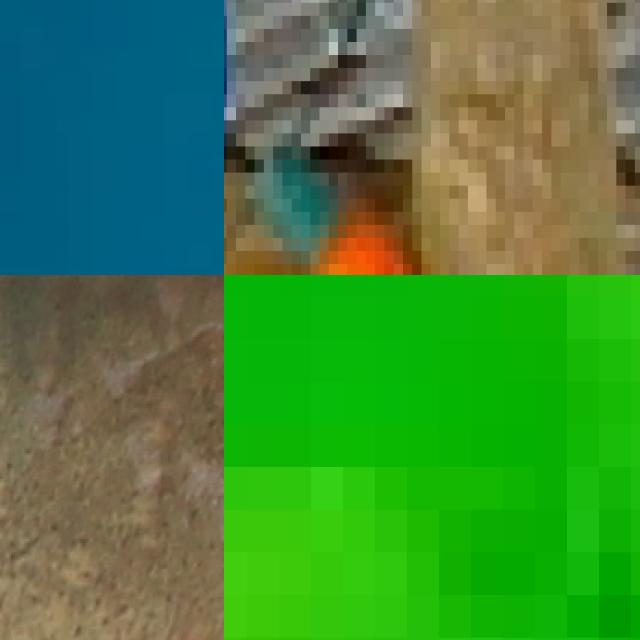fish: (224, 275, 640, 640), (0, 275, 224, 640), (0, 0, 224, 275)
